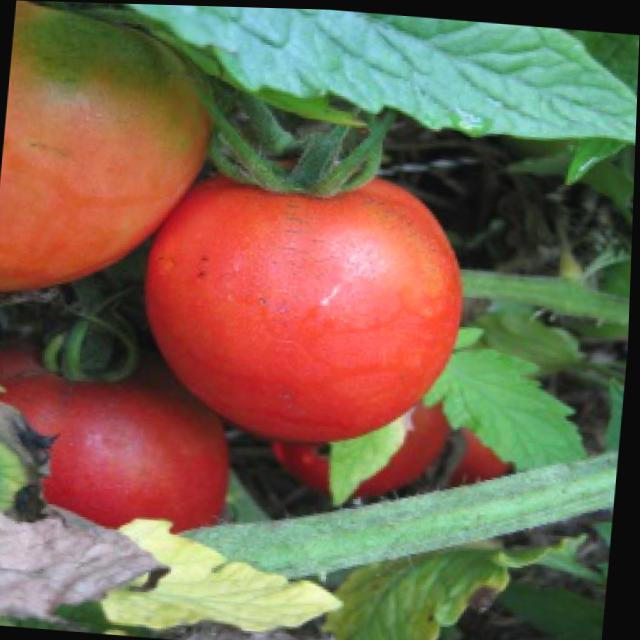tomato: (134, 160, 475, 449), (0, 0, 224, 306), (0, 357, 242, 539)
